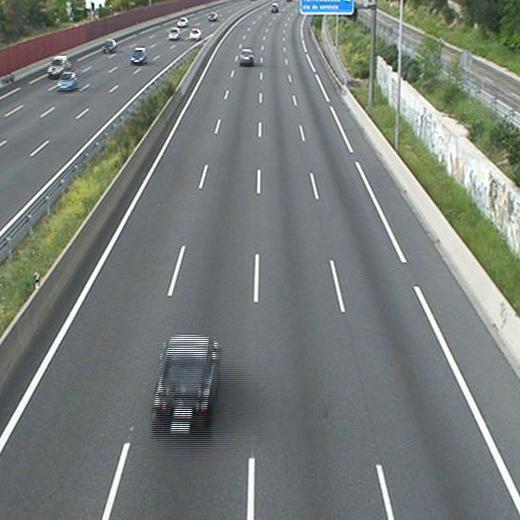car: (155, 335, 216, 422), (239, 49, 253, 63), (270, 3, 280, 12)
